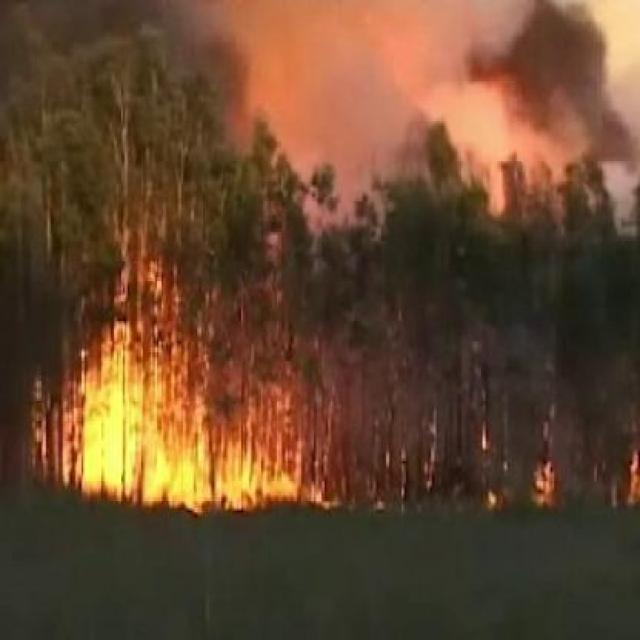Fire: (12, 272, 355, 542)
Smoke: (168, 0, 640, 258)
